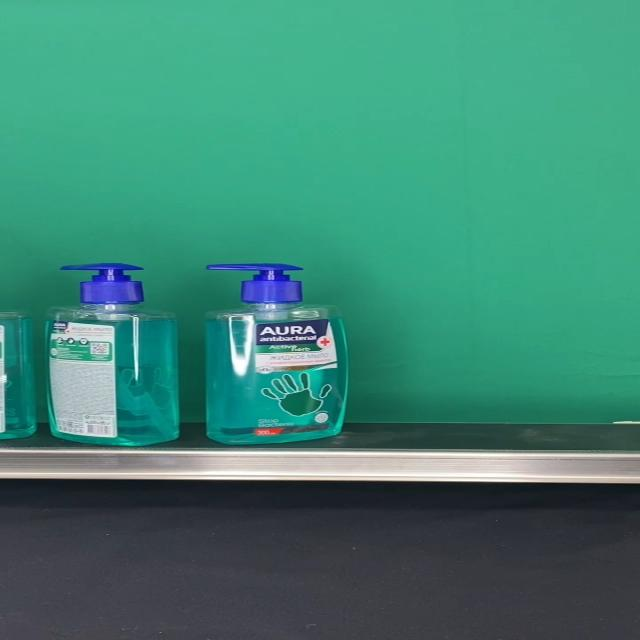Bottle: (204, 262, 348, 444), (43, 263, 178, 446)
Cap: (206, 262, 302, 304), (66, 264, 142, 306)
